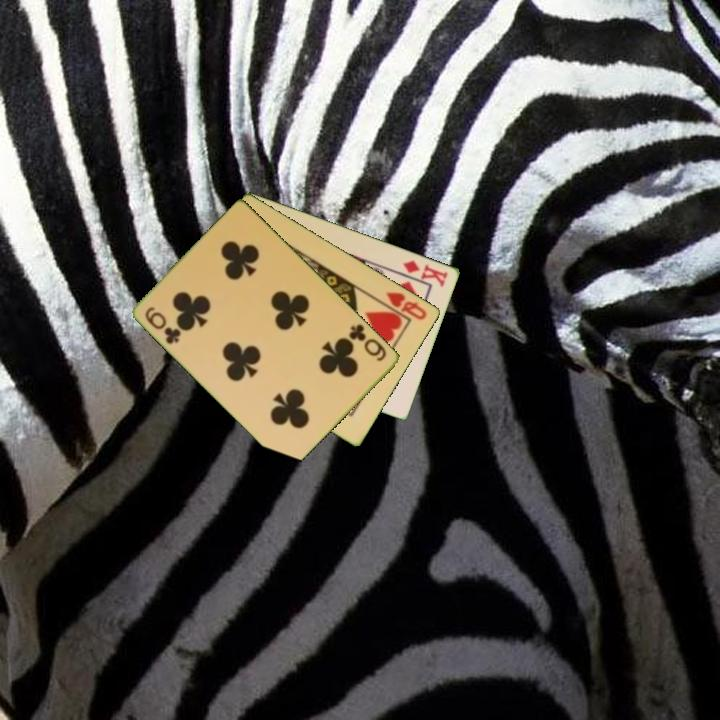6c: (346, 320, 390, 364), (142, 303, 184, 347)
Kd: (400, 256, 451, 290)
Qh: (382, 288, 430, 323)
